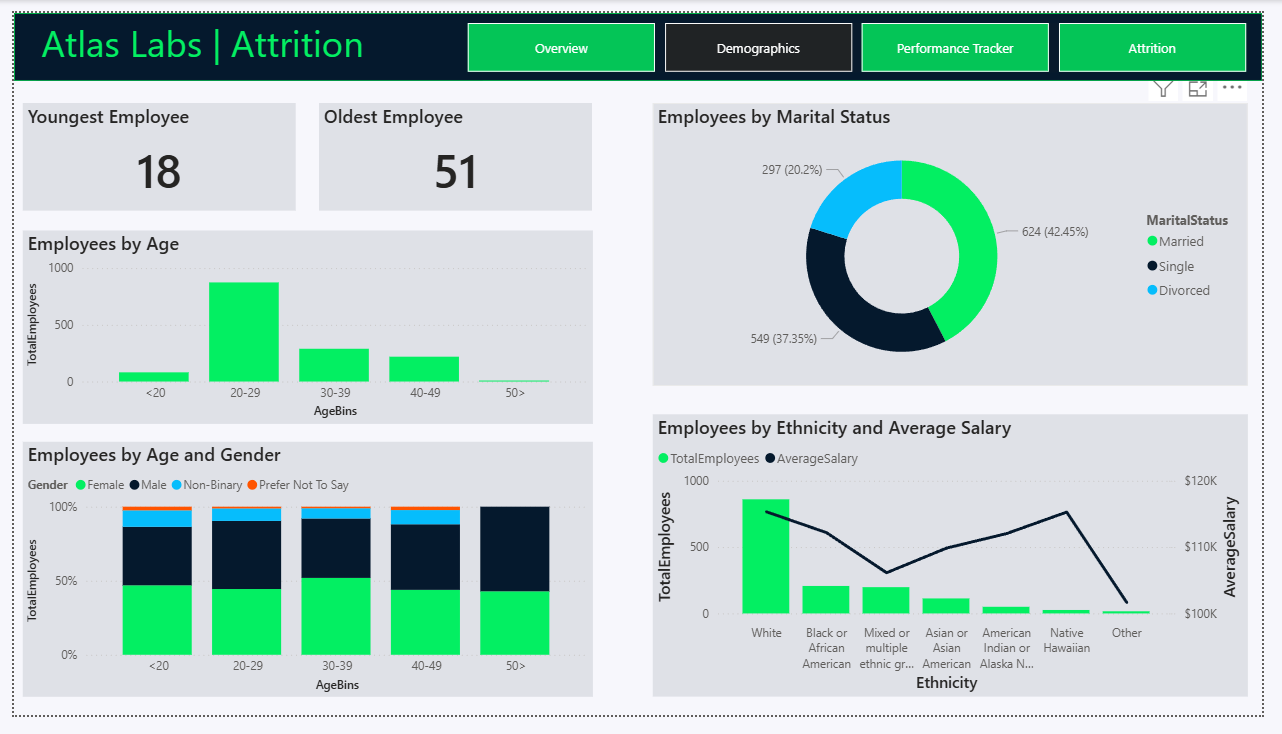

This screenshot's page, from the dashboard's own definition file:
{"tool":"powerbi","page":{"name":"Demographics","canvas":[1280,720],"ordinal":1},"visuals":[{"type":"card","title":"Youngest Employee","fields":{"Values":["Min(DimEmployee.Age)"]},"box":[8.6,92.9,280,110.1],"z":0},{"type":"card","title":"Oldest Employee","fields":{"Values":["Max(DimEmployee.Age)"]},"box":[313,92.9,280,110.1],"z":1000},{"type":"columnChart","title":"Employees by Age","fields":{"Category":["DimEmployee.AgeBins"],"Y":["_Measures.TotalEmployees"]},"box":[8.6,222.6,584.5,198.1],"z":2000},{"type":"hundredPercentStackedColumnChart","title":"Employees by Age and Gender","fields":{"Category":["DimEmployee.AgeBins"],"Series":["DimEmployee.Gender"],"Y":["_Measures.TotalEmployees"]},"box":[8.6,440.2,584.5,261.7],"z":3000},{"type":"donutChart","title":"Employees by Marital Status","fields":{"Category":["DimEmployee.MaritalStatus"],"Y":["_Measures.TotalEmployees"]},"box":[655.4,92.9,610.2,289.8],"z":4000},{"type":"lineStackedColumnComboChart","title":"Employees by Ethnicity and Average Salary","fields":{"Category":["DimEmployee.Ethnicity"],"Y":["_Measures.TotalEmployees"],"Y2":["_Measures.AverageSalary"]},"box":[655.4,412.1,610.2,289.8],"z":5000},{"type":"shape","box":[0,0,1280.3,69.7],"z":6000},{"type":"textbox","box":[23.2,0,457.3,69.7],"z":7000},{"type":"pageNavigator","box":[465.9,9.8,799.7,50.1],"z":8000}]}

Visuals, with their boxes in screenshot pixels (x1, y1, x2, y2), scaled from the page's 1280x720 canvas onto the 1282x734 screenshot:
"Youngest Employee" card: box=[9, 95, 289, 207]
"Oldest Employee" card: box=[313, 95, 594, 207]
"Employees by Age" columnChart: box=[9, 227, 594, 429]
"Employees by Age and Gender" hundredPercentStackedColumnChart: box=[9, 449, 594, 716]
"Employees by Marital Status" donutChart: box=[656, 95, 1268, 390]
"Employees by Ethnicity and Average Salary" lineStackedColumnComboChart: box=[656, 420, 1268, 716]
shape: box=[0, 0, 1281, 71]
textbox: box=[23, 0, 481, 71]
pageNavigator: box=[467, 10, 1268, 61]
